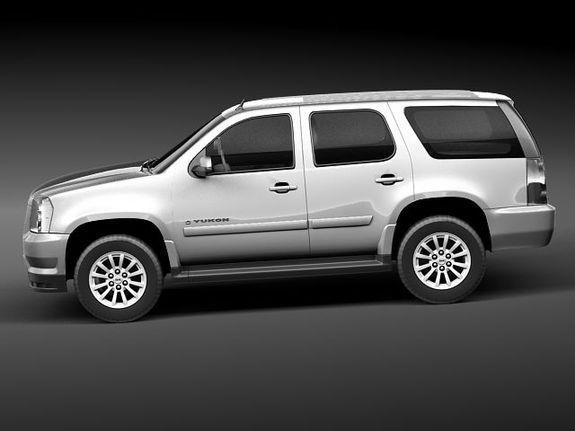car: (23, 89, 556, 327)
